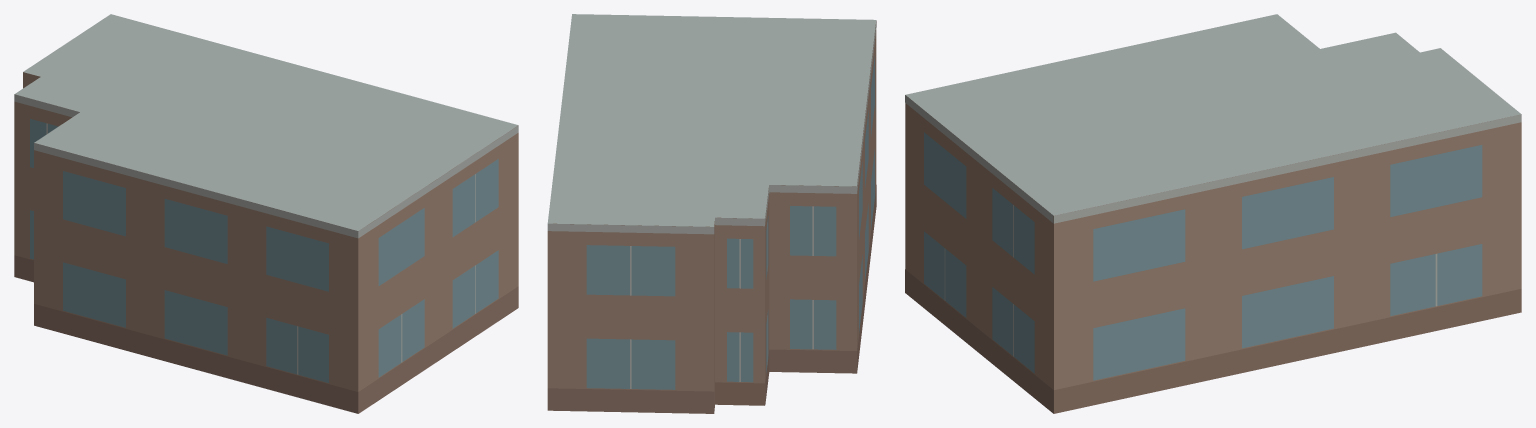
File: survey-upis-32707268.glb
3 renders of one model, left to right at view 1: azimuth 30°, elevation 25°; view 2: azimuth 150°, elevation 25°; view 3: azimuth 270°, elevation 25°, orthographic. The views are drawn at different scales.
Visible parts, largest first — view 1: survey-upis-32707268.tmp; view 2: survey-upis-32707268.tmp; view 3: survey-upis-32707268.tmp.
Part boxes in pixels (left/top/right/bottom): survey-upis-32707268.tmp: left=14, top=14, right=518, bottom=413; survey-upis-32707268.tmp: left=547, top=14, right=876, bottom=413; survey-upis-32707268.tmp: left=905, top=14, right=1521, bottom=413.
Size of the model in its own units: 13.33 by 6.1 by 17.21.
